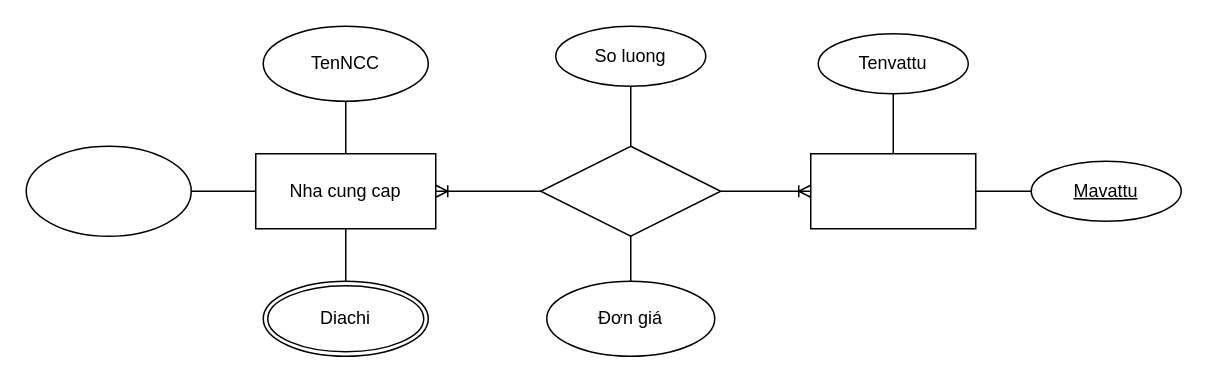
This 1208x383 diagram has some shape labels left out. The shapes that lost their labels are listed below. From the top down, each one's centre as x and y in pixels, then its label:
the point at 108,190: MaNCC
the point at 630,190: Cung cap
the point at 892,190: Vat tu
